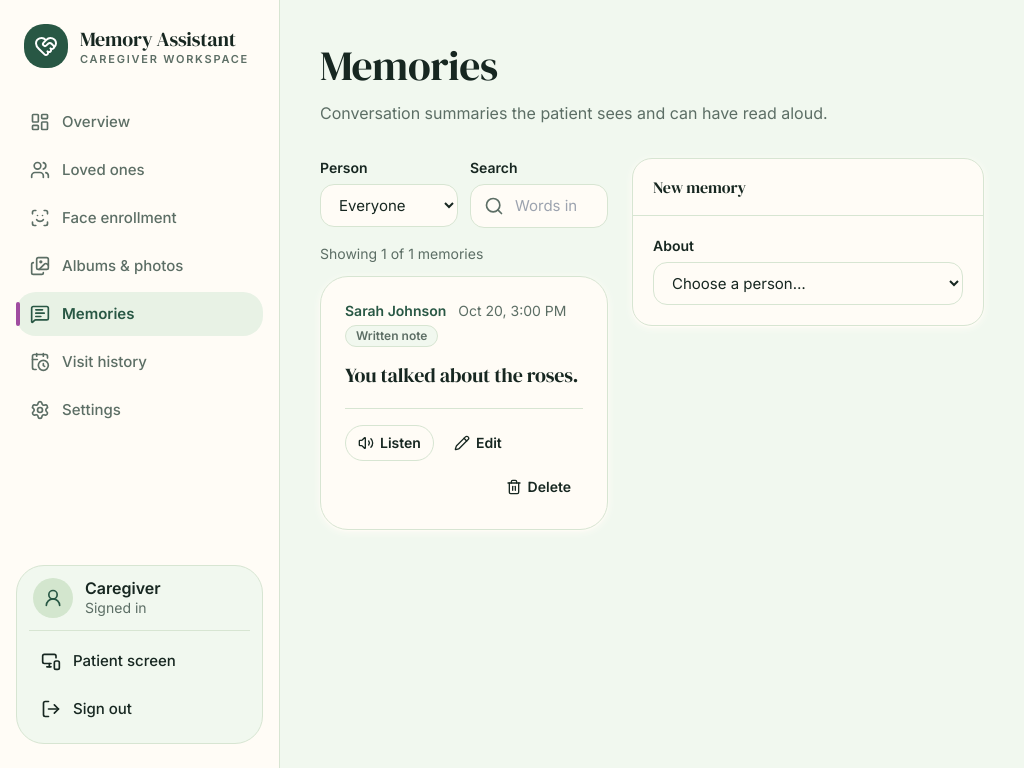
Scenario: memory management › edits a memory in place, validates, and can cancel
Expected: the text "You talked about the roses." is shown, [345,360,583,392]
Click the button named "Edit memory from" at (478, 443), box [442,425,514,461]
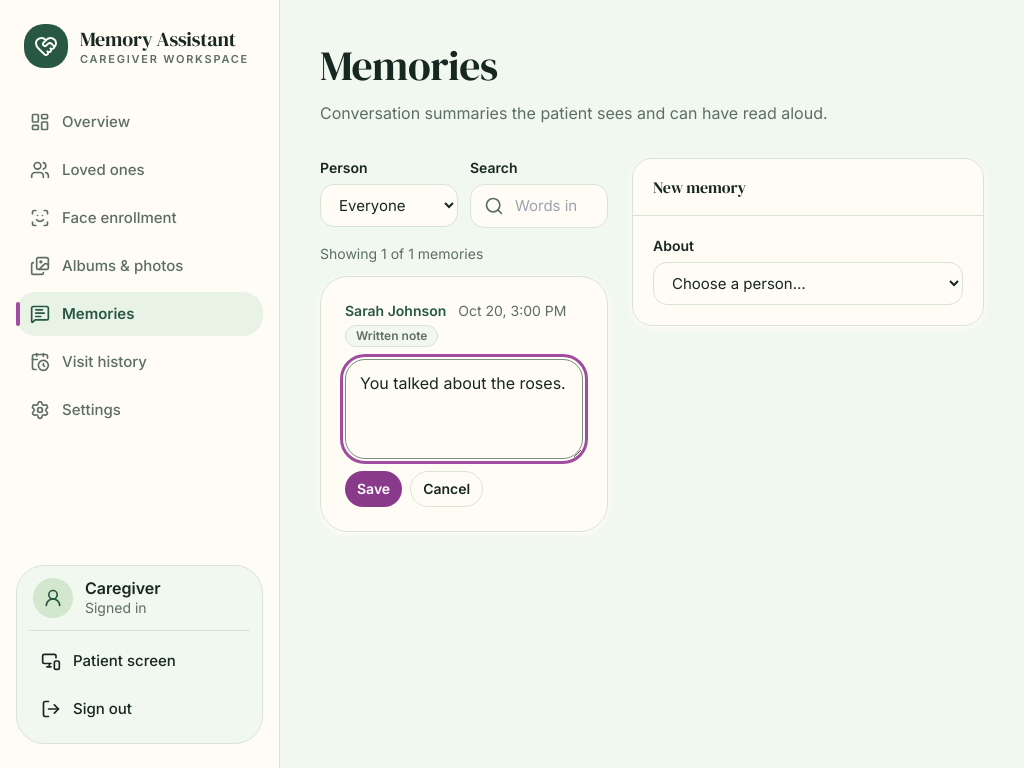
Clear the text box named "Edit memory from" at (464, 410), box [345,360,583,460]
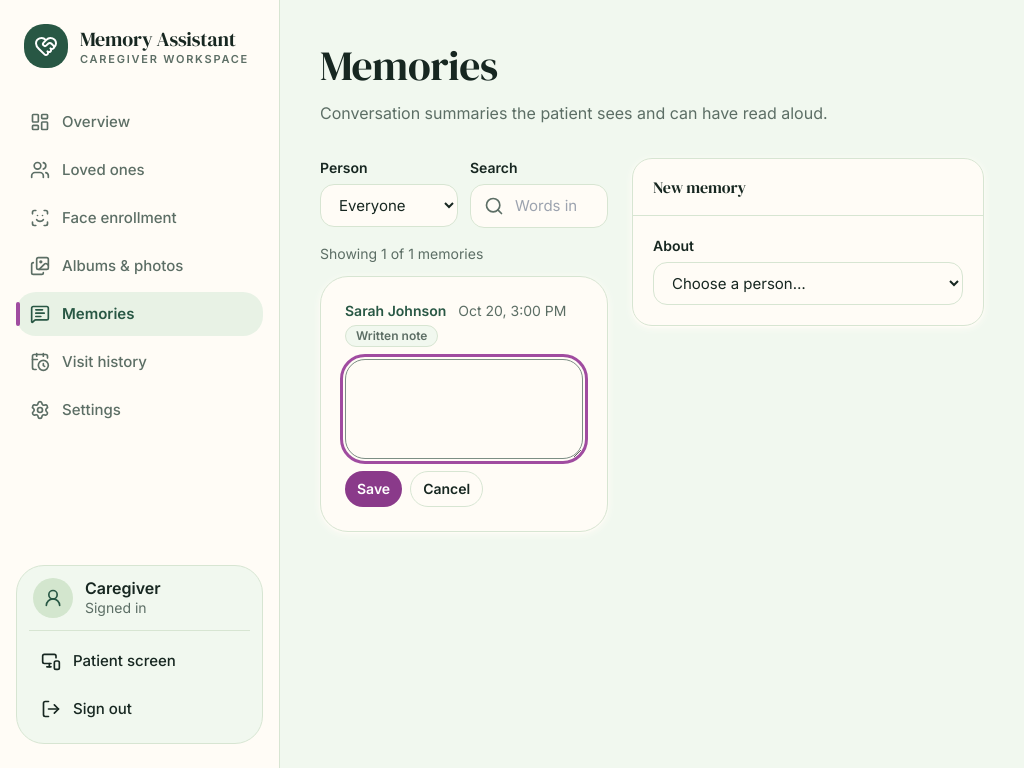
Click the button "Save" at (374, 490), box [345,472,402,508]
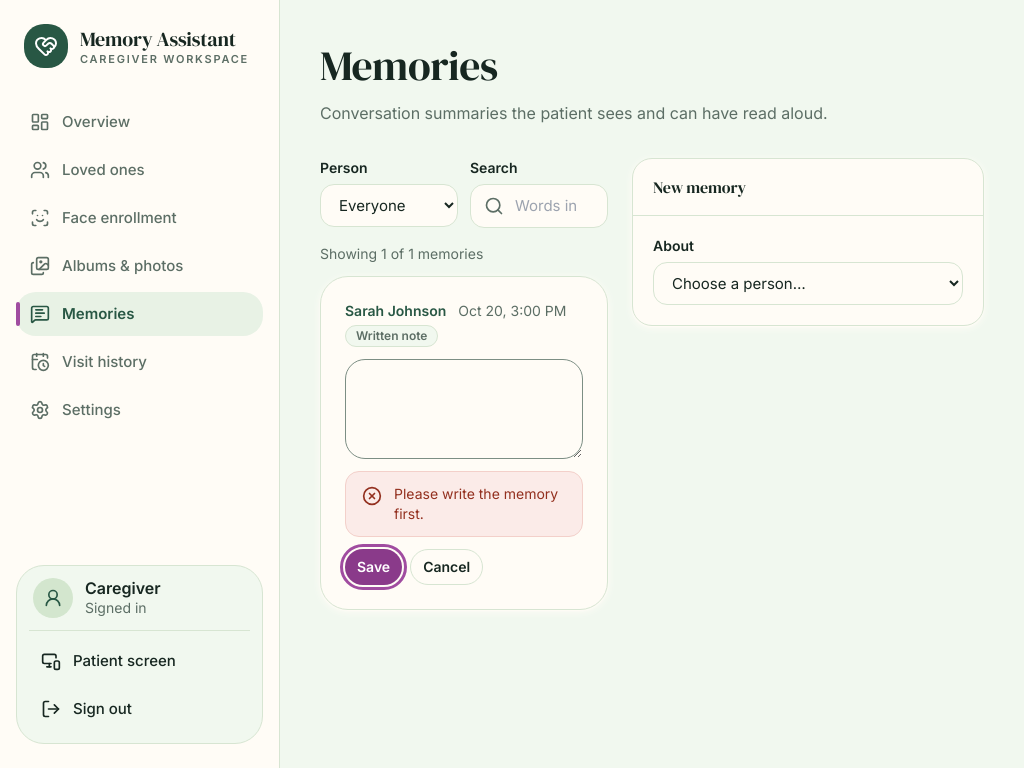
Expected: the text "Please write the memory first." is shown, [394,484,566,524]
Type "You planted roses together." into the text box named "Edit memory from" at (464, 410), box [345,360,583,460]
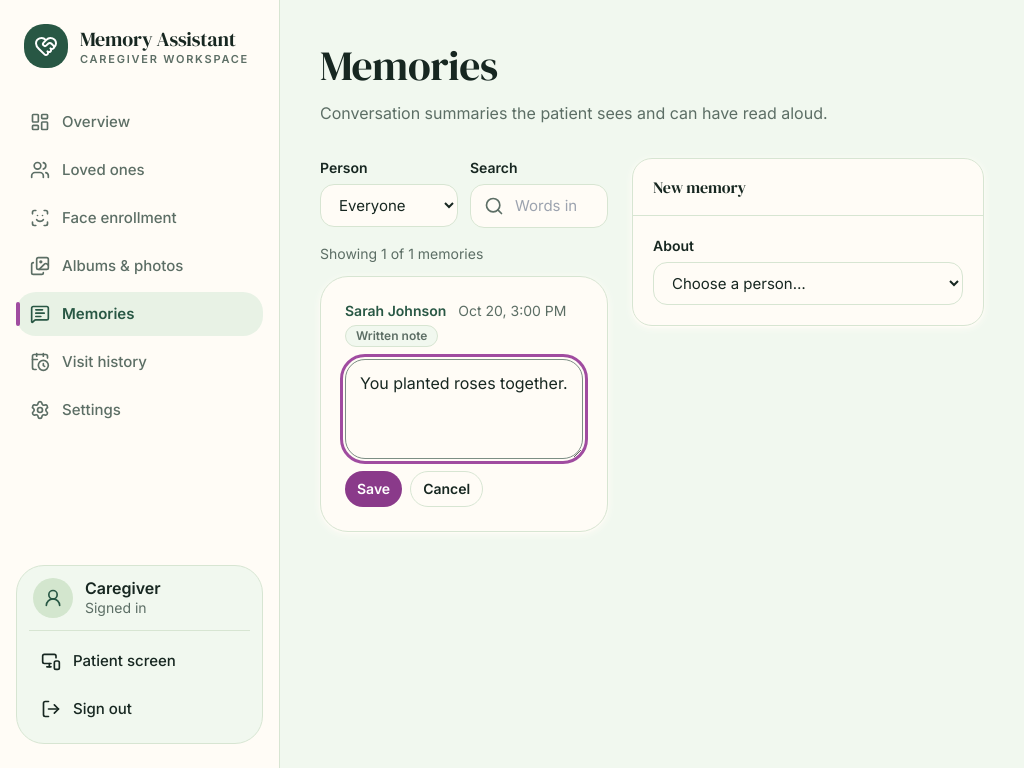
Click the button "Save" at (374, 490), box [345,472,402,508]
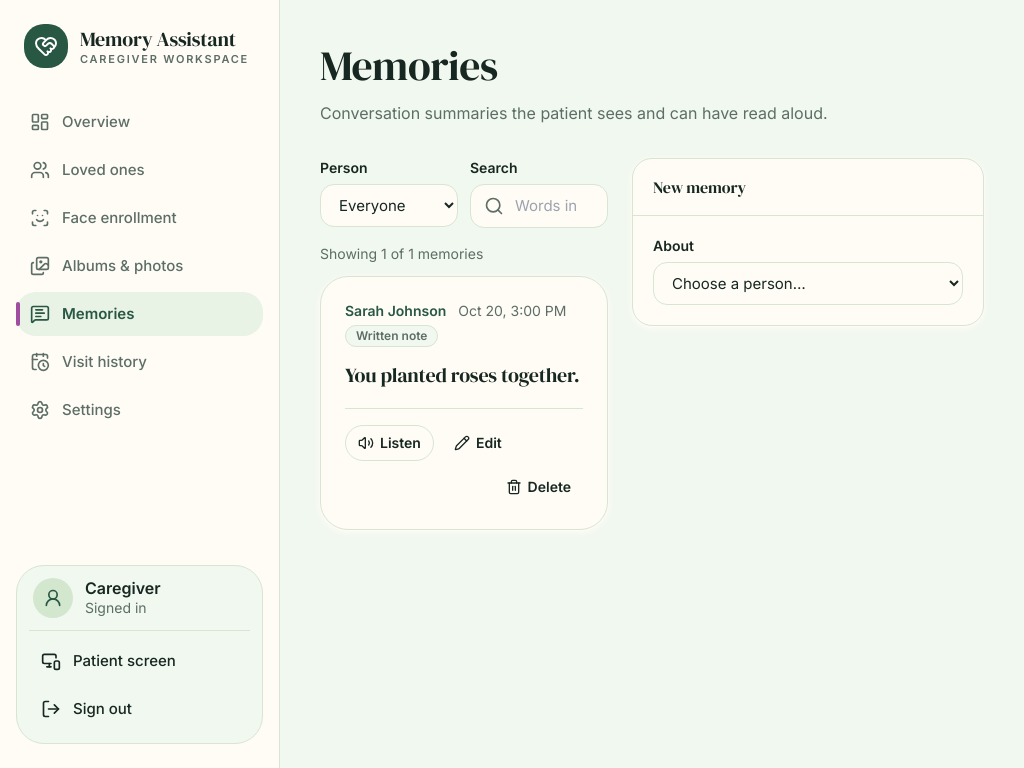
Expected: the text "You talked about the roses." is not shown
Expected: the text "You planted roses together." is shown, [345,360,583,392]
